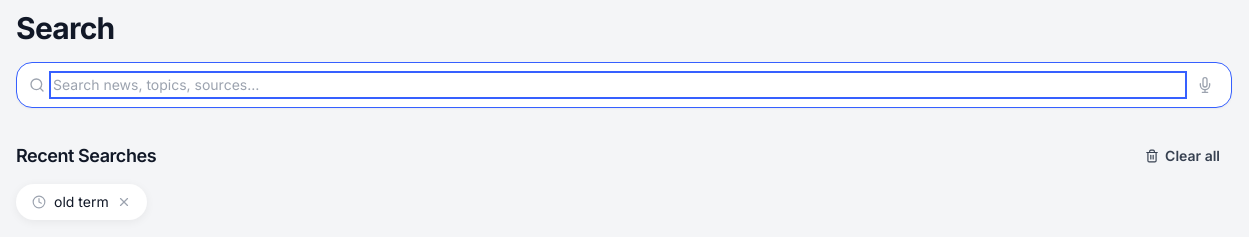
Search page › clears search history via the Clear all button
expect the button "old term" is shown: met, box [32, 192, 109, 212]
Click the button "Clear all" at (1183, 156), box [1133, 140, 1232, 172]
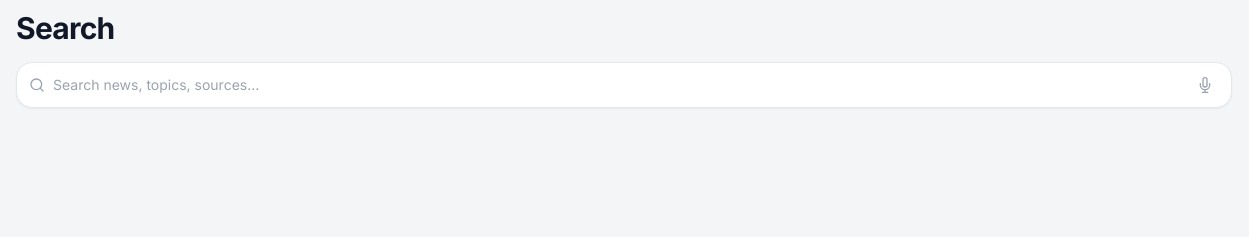
expect the button "old term" is gone: met
